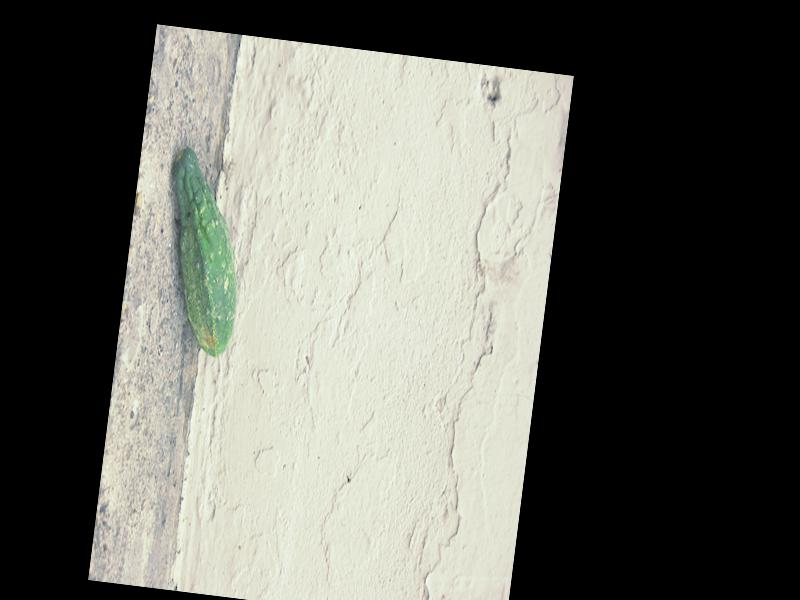Cucumber: (151, 148, 255, 358)
